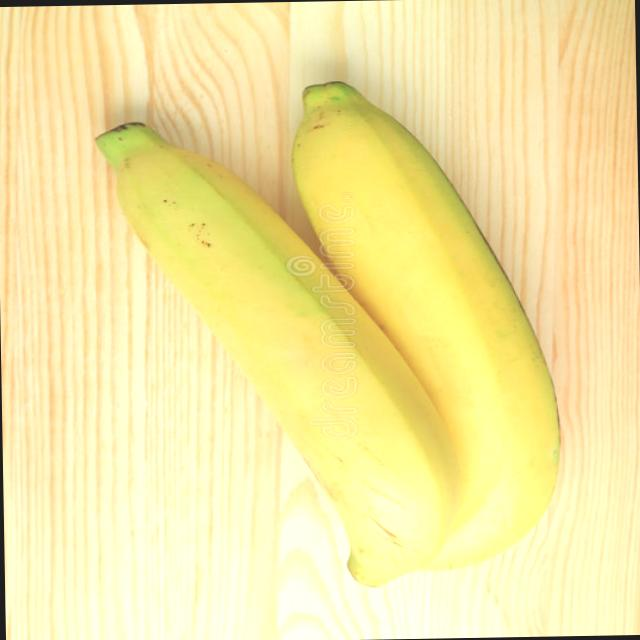Platano: (88, 108, 472, 593), (281, 73, 564, 582)
